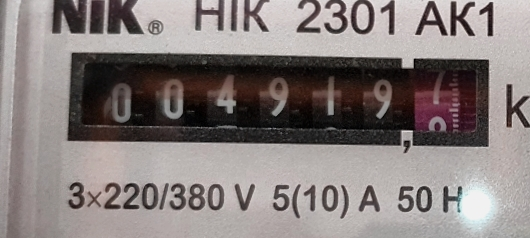0: (159, 75, 186, 120), (108, 79, 132, 123)
1: (321, 72, 337, 117)
4: (212, 70, 237, 114)
7: (423, 66, 446, 106)
9: (369, 75, 393, 122), (265, 74, 289, 118)
screen: (55, 38, 506, 164)
